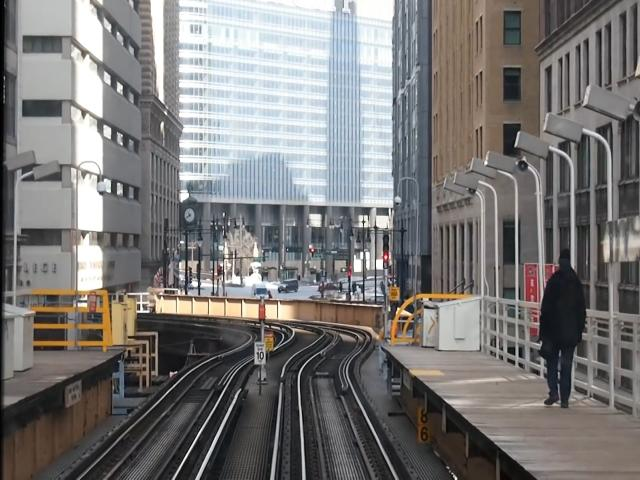signal light: (382, 231, 392, 273)
